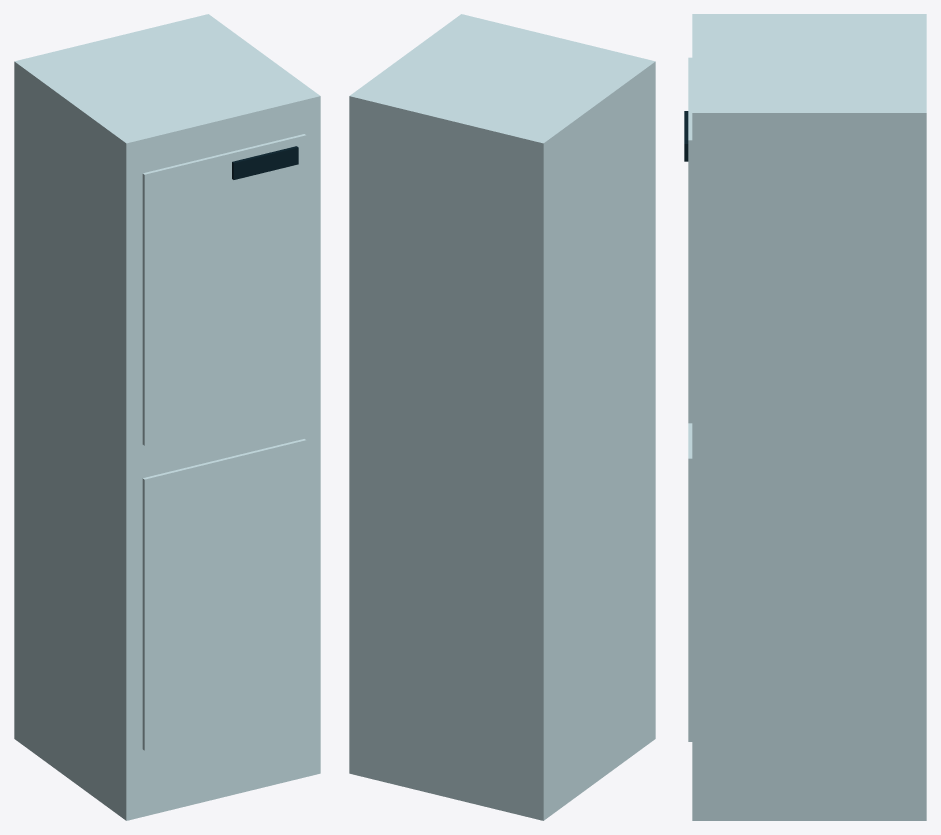
File: cabinet 1.glb
3 renders of one model, left to right at view 1: azimuth 30°, elevation 25°; view 2: azimuth 150°, elevation 25°; view 3: azimuth 270°, elevation 25°, orthographic. The views are drawn at different scales.
Parts seen in each view (by area): view 1: cabinet 1; view 2: cabinet 1; view 3: cabinet 1.
Part boxes in pixels (x1=…): cabinet 1: x1=14, y1=14, x2=320, y2=820; cabinet 1: x1=349, y1=14, x2=655, y2=820; cabinet 1: x1=684, y1=14, x2=926, y2=820.
Bounding box in the file's own units: 0.6 × 2 × 0.62.
